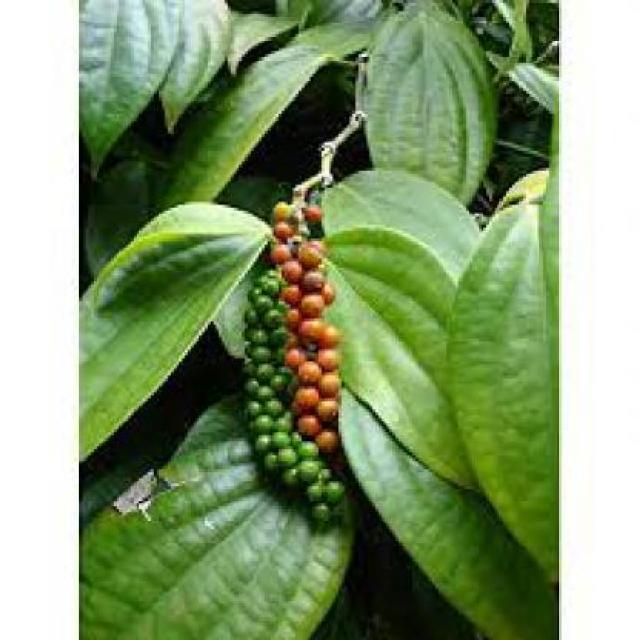RIPE: (290, 196, 353, 430)
UNRIPE: (265, 259, 290, 456)
